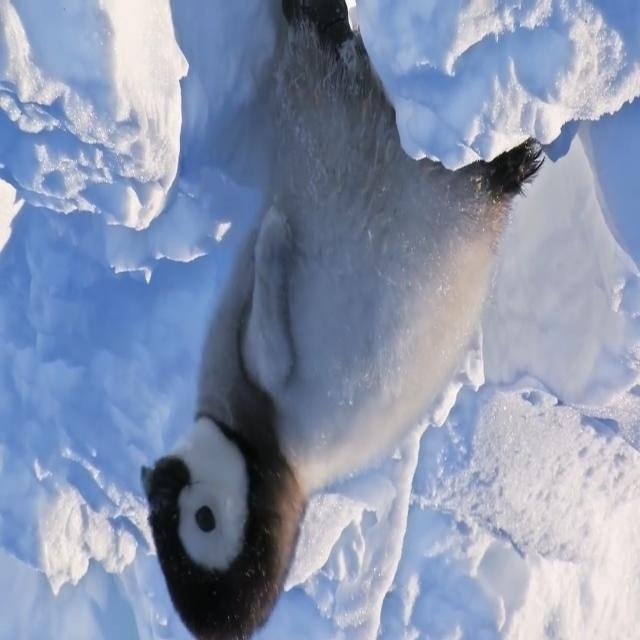penguin: (136, 3, 547, 638)
